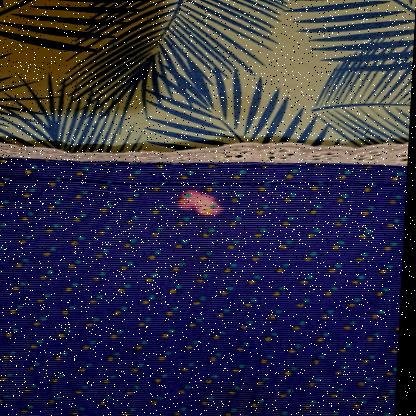spot: (168, 188, 237, 216)
